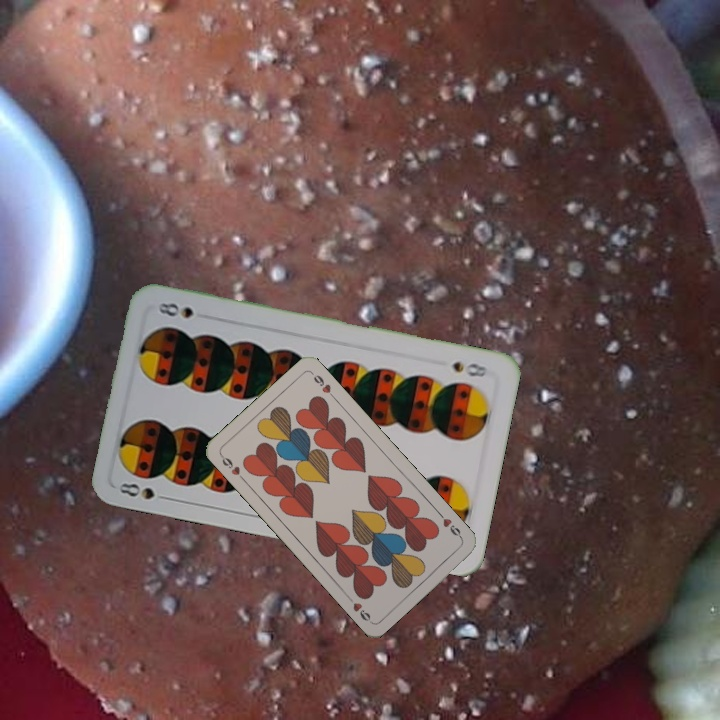H9: (216, 451, 248, 484), (434, 508, 465, 542)
S8: (115, 479, 173, 503), (448, 357, 492, 380)
